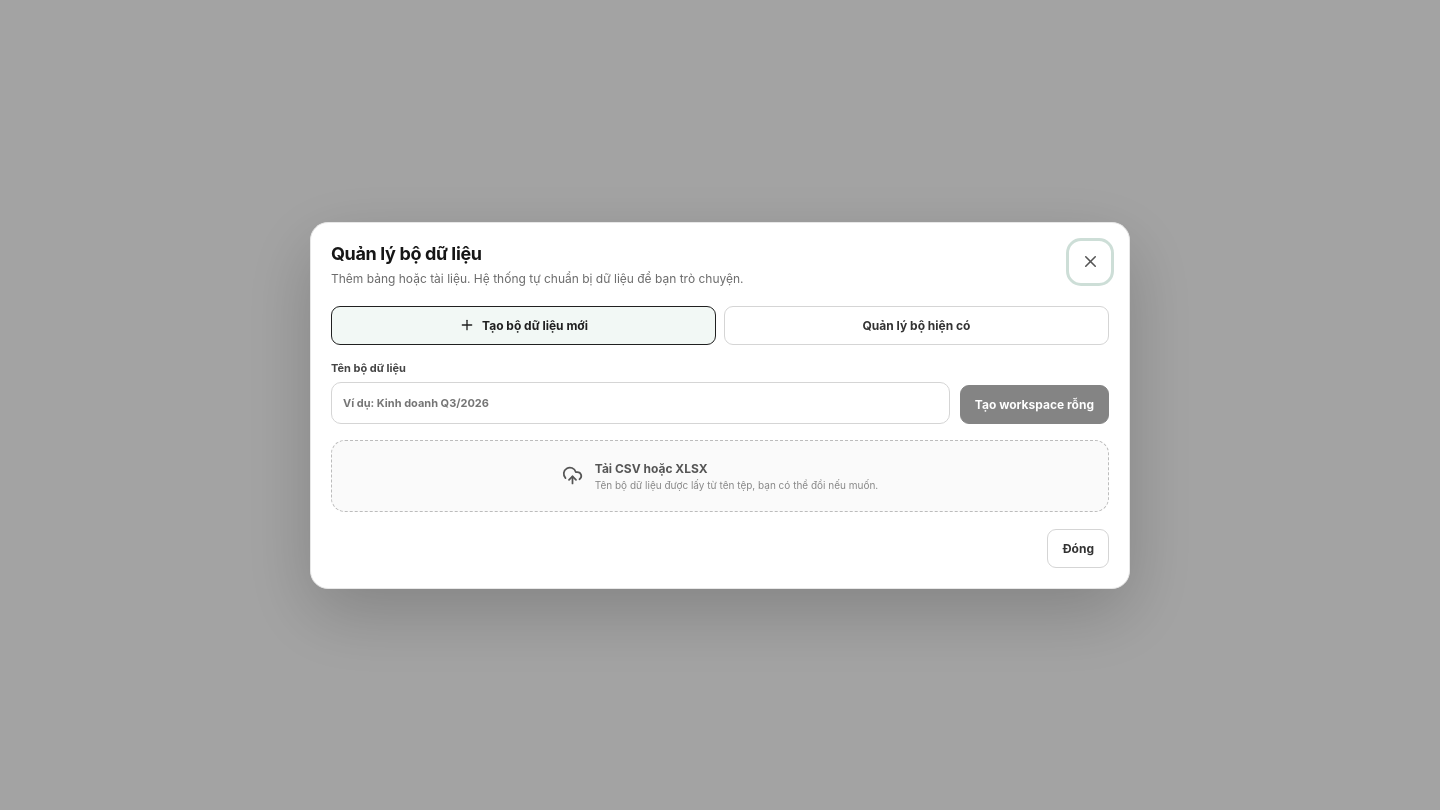
Scenario: workspace deletion › deletes a document without deleting tables or workspace
Click the tab "Quản lý bộ hiện có".
click(916, 325)  # box [724,306,1109,344]
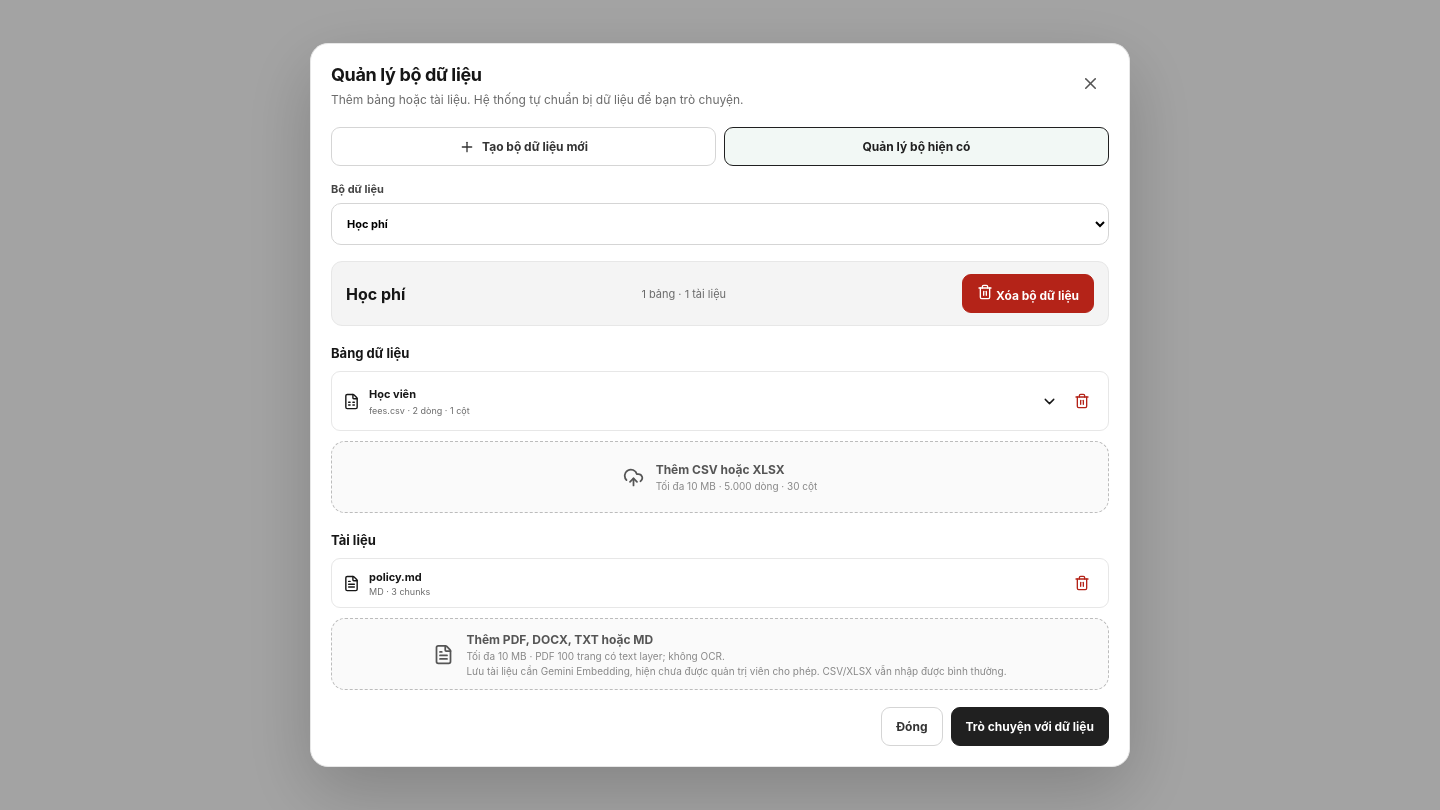
Check: the text "policy.md" is shown, box [369,570,422,584]
Click the button named "Xóa tài liệu policy.md".
click(1082, 583)  # box [1067,568,1097,598]
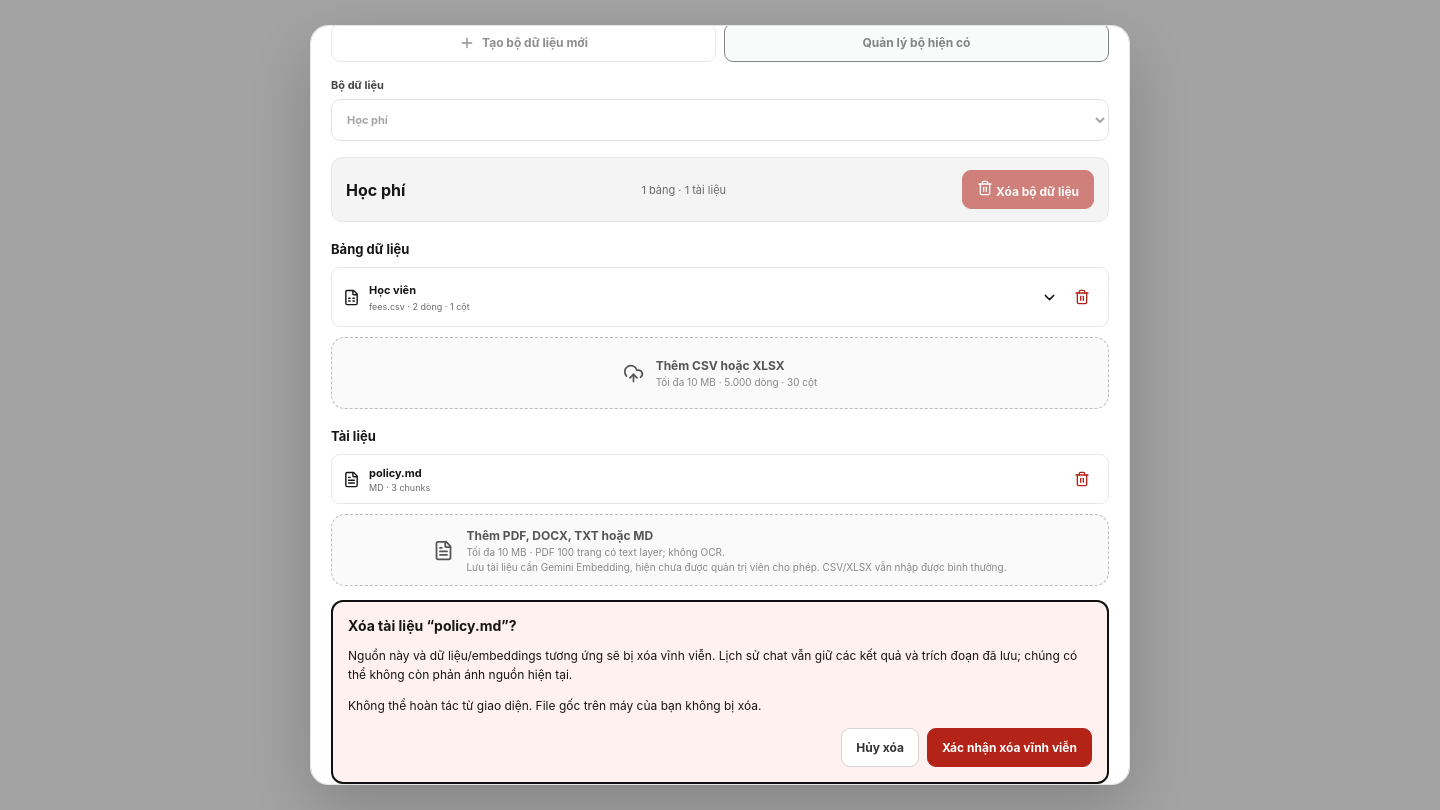
Click the button "Xác nhận xóa vĩnh viễn".
click(1009, 747)  # box [927,728,1092,767]
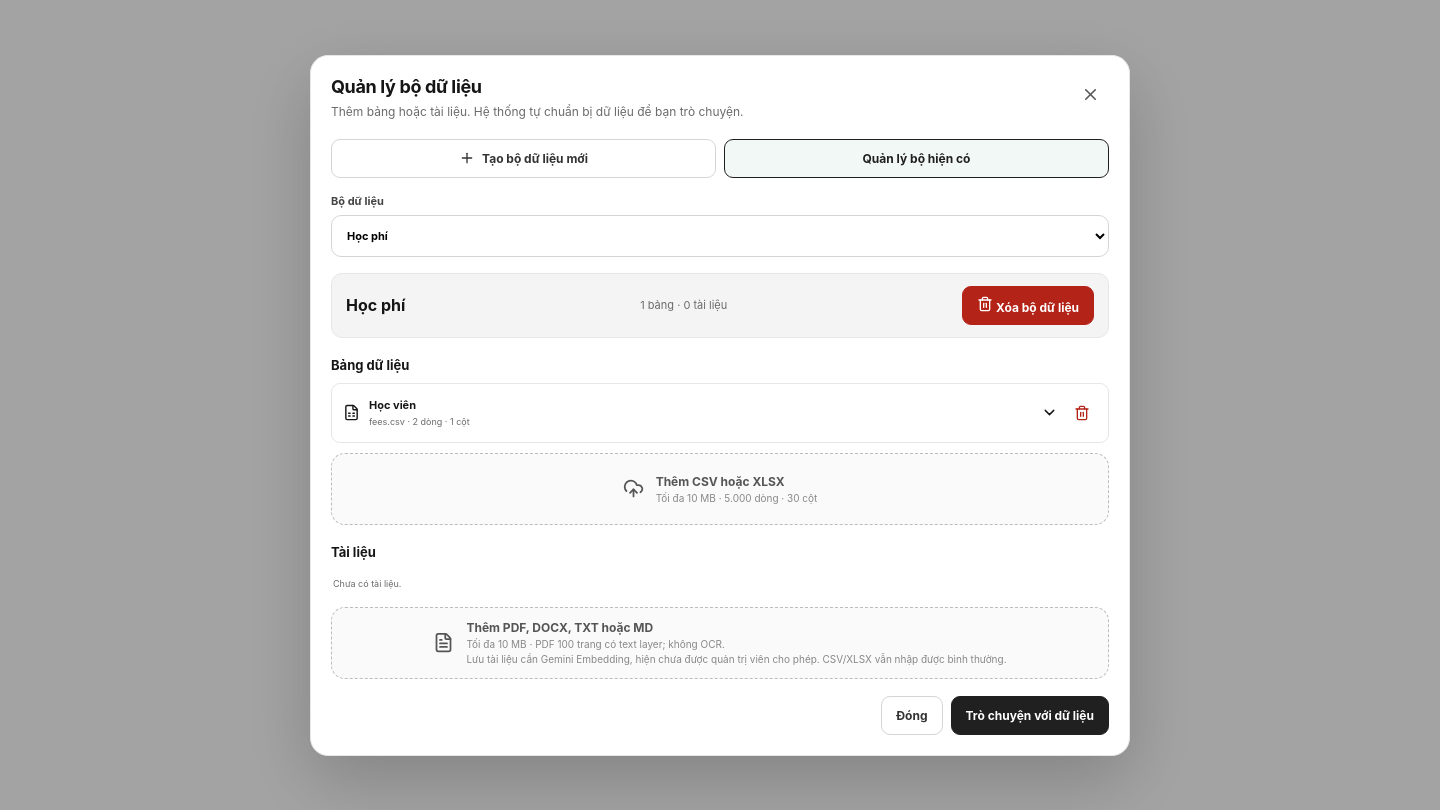
Check: the button named "Xóa bảng Học viên" is shown, box [1067,398,1097,428]
Check: the text "policy.md" is gone
